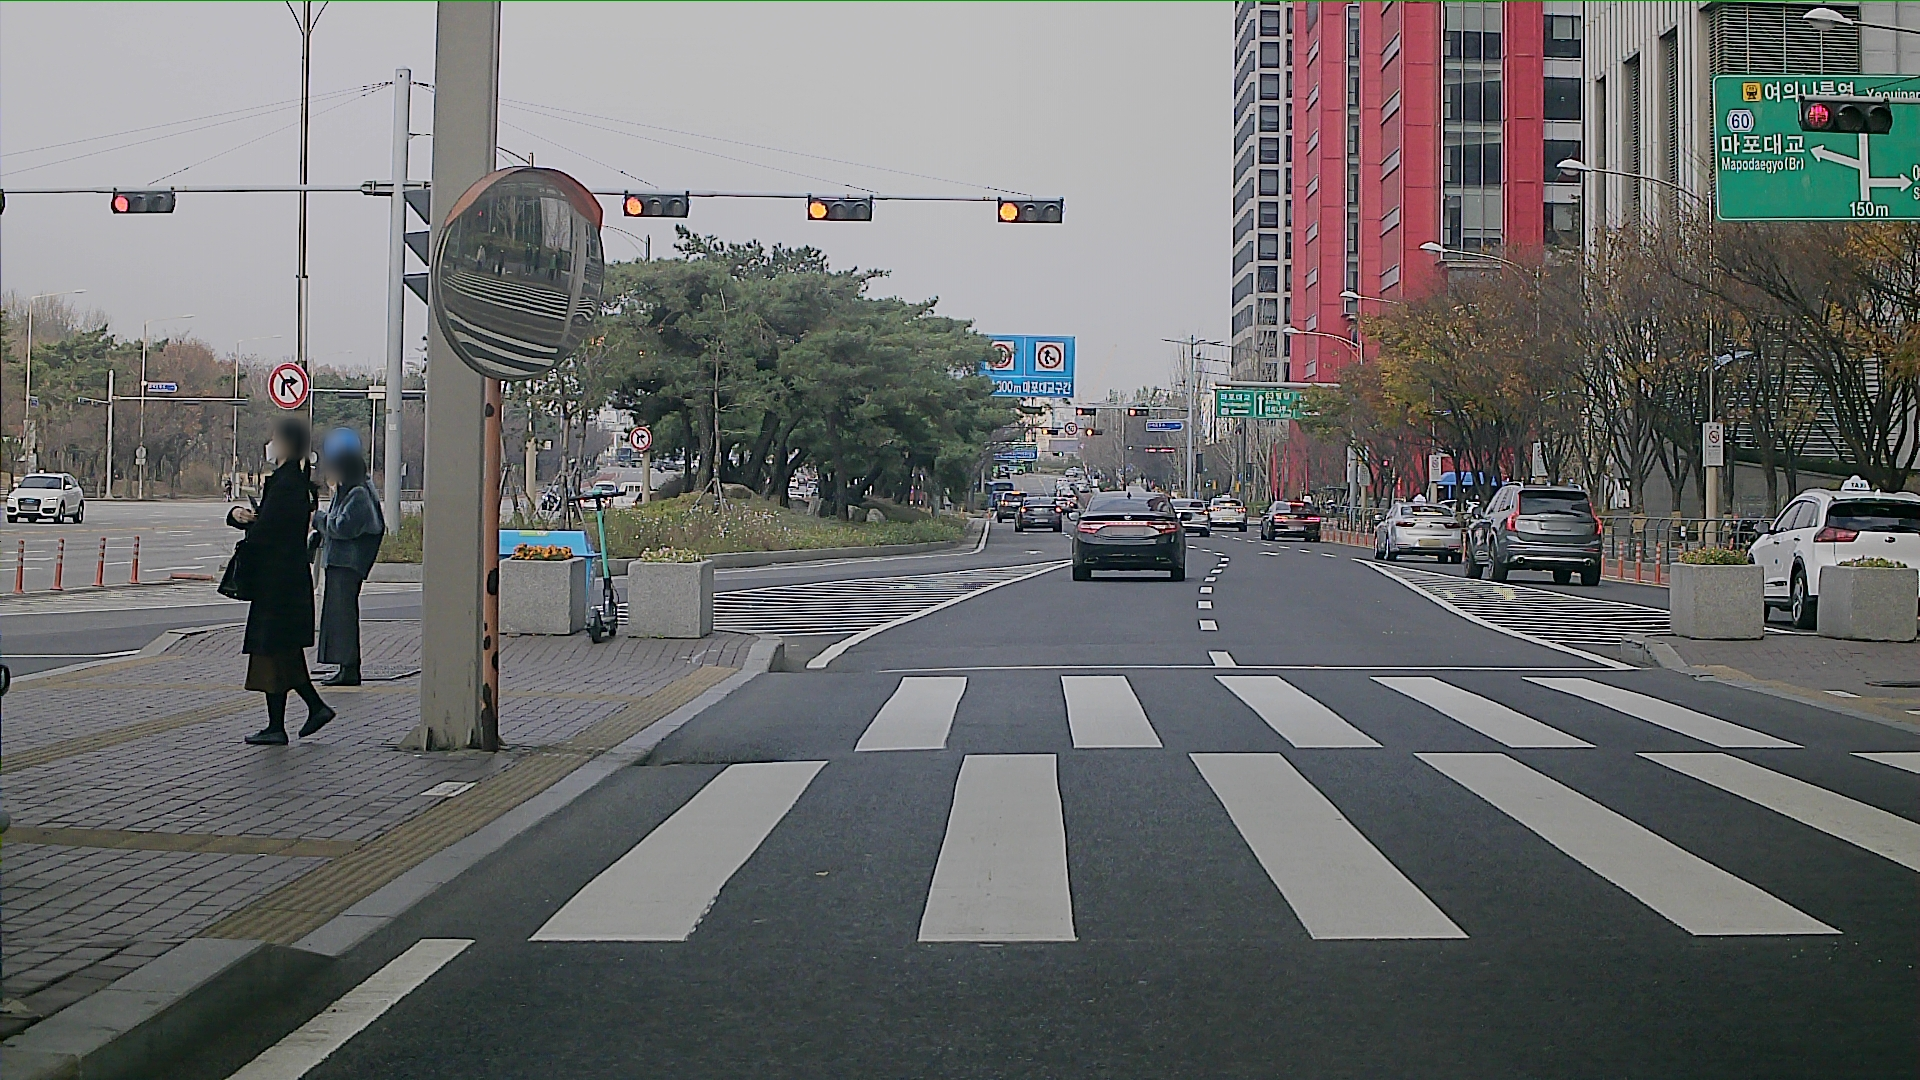trafficLight: (109, 185, 1065, 227), (1800, 96, 1895, 136)
trafficSignRTG: (961, 334, 1077, 398)
